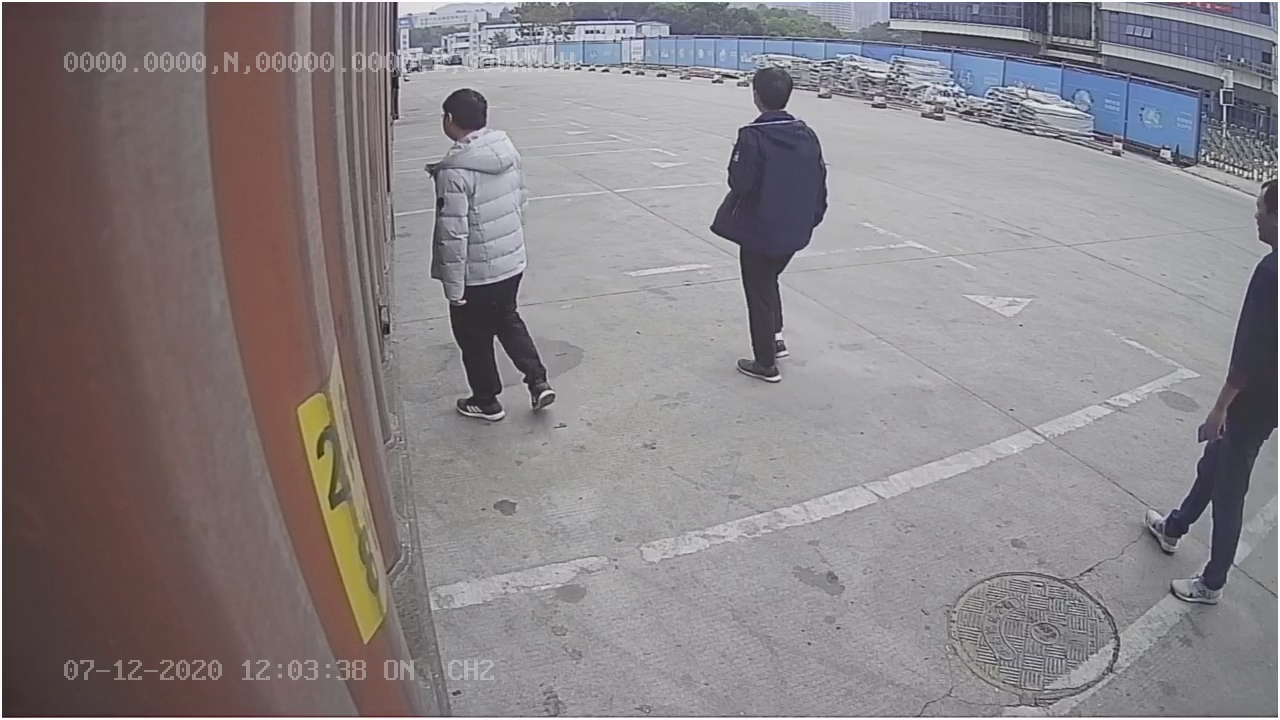person: (422, 82, 565, 419), (709, 65, 831, 380)
